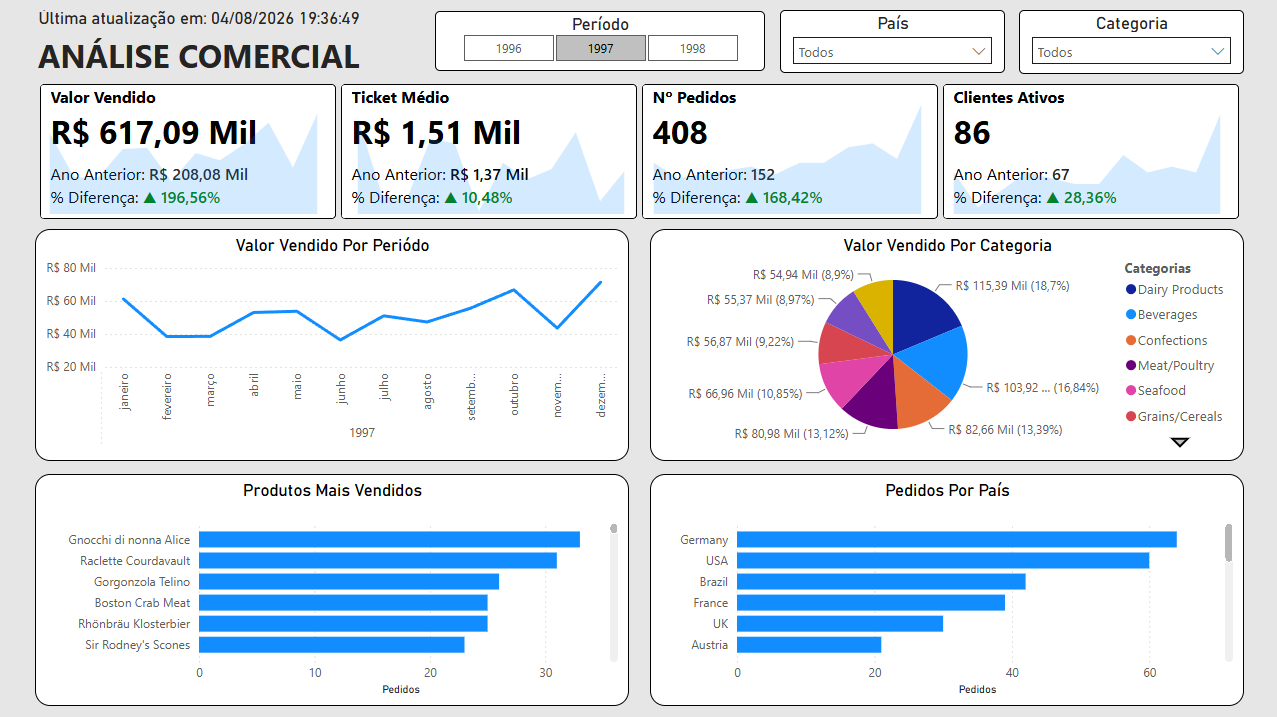

The page's visual inventory and layout, read from the dashboard file:
{"tool":"powerbi","page":{"name":"Página 1","canvas":[1280,720],"ordinal":0},"visuals":[{"type":"slicer","title":"Período","fields":{"Values":["Calendario.Ano"]},"box":[436.5,12,329.9,60.2],"z":0,"group":"g1"},{"type":"cardVisual","fields":{"Data":["Medidas.Total de Vendas","Medidas.Ticket Medio","Medidas.N Pedidos","Medidas.Clientes Ativos"]},"box":[35.6,79.7,1208.9,144.7],"z":0,"group":"g4"},{"type":"lineChart","title":"Valor Vendido Por Periódo","fields":{"Category":["Calendario.Data Hierarquia.Ano","Calendario.Data Hierarquia.Nome do Mês","Calendario.Data Hierarquia.Dia"],"Y":["Medidas.Total de Vendas"]},"box":[35.6,230.2,594.4,232.4],"z":0,"group":"g3"},{"type":"clusteredBarChart","title":"Produtos Mais Vendidos","fields":{"Category":["dim_products.product_name"],"Y":["Medidas.N Pedidos"]},"box":[35.6,474.7,594.4,232.4],"z":0,"group":"g2"},{"type":"group","id":"g1","title":"Grupo 1","box":[436.5,11,809.2,63.8],"z":1000},{"type":"slicer","title":"País","fields":{"Values":["dim_customers.country"]},"box":[781.5,11,225.1,63.3],"z":1000,"group":"g1"},{"type":"pieChart","title":"Valor Vendido Por Categoria","fields":{"Category":["fct_order_items.category_name"],"Y":["Medidas.Total de Vendas"]},"box":[650.7,230.2,594.4,232.4],"z":1000,"group":"g3"},{"type":"clusteredBarChart","title":"Pedidos Por País","fields":{"Category":["dim_customers.country"],"Y":["Medidas.N Pedidos"]},"box":[650.7,474.7,594.4,232.4],"z":1000,"group":"g2"},{"type":"slicer","title":"Categoria","fields":{"Values":["dim_products.category_name"]},"box":[1020.1,11,225.1,64.3],"z":2000,"group":"g1"},{"type":"group","id":"g2","title":"Grupo 2","box":[35.6,474.7,1208.9,233],"z":2000},{"type":"group","id":"g3","title":"Grupo 3","box":[35.6,230.2,1208.9,233],"z":3000},{"type":"areaChart","fields":{"Category":["Calendario.Data Hierarquia.Ano","Calendario.Data Hierarquia.Nome do Mês","Calendario.Data Hierarquia.Dia"],"Y":["Medidas.Clientes Ativos"]},"box":[939.2,83.4,296.7,136.1],"z":3001,"group":"g4"},{"type":"areaChart","fields":{"Category":["Calendario.Data Hierarquia.Ano","Calendario.Data Hierarquia.Nome do Mês","Calendario.Data Hierarquia.Dia"],"Y":["Medidas.N Pedidos"]},"box":[640,83.4,296.7,136.1],"z":3002,"group":"g4"},{"type":"areaChart","fields":{"Category":["Calendario.Data Hierarquia.Ano","Calendario.Data Hierarquia.Nome do Mês","Calendario.Data Hierarquia.Dia"],"Y":["Medidas.Ticket Medio"]},"box":[343.3,83.4,296.7,136.1],"z":3003,"group":"g4"},{"type":"areaChart","fields":{"Category":["Calendario.Data Hierarquia.Ano","Calendario.Data Hierarquia.Nome do Mês","Calendario.Data Hierarquia.Dia"],"Y":["Medidas.Total de Vendas"]},"box":[35.6,83.4,296.7,136.1],"z":3004,"group":"g4"},{"type":"group","id":"g4","title":"Grupo 4","box":[35.6,79.7,1208.9,144.7],"z":3005},{"type":"textbox","title":"ANÁLISE COMERCIAL","box":[14.4,33.7,371.2,45],"z":3006,"group":"g5"},{"type":"card","fields":{"Values":["Medidas.Registro de Atualizacao"]},"box":[10,6.2,380,27.5],"z":3007,"group":"g5"},{"type":"group","id":"g5","title":"Grupo 5","box":[10,6.2,380,72.5],"z":3008}]}

Visuals, with their boxes in screenshot pixels (x1, y1, x2, y2), scaled from the page's 1280x720 canvas onto the 1277x717 screenshot:
"Período" slicer: bbox=[435, 12, 765, 72]
cardVisual - Medidas.Total de Vendas x Medidas.Ticket Medio: bbox=[36, 79, 1242, 223]
"Valor Vendido Por Periódo" lineChart: bbox=[36, 229, 629, 461]
"Produtos Mais Vendidos" clusteredBarChart: bbox=[36, 473, 629, 704]
"Grupo 1" group: bbox=[435, 11, 1243, 74]
"País" slicer: bbox=[780, 11, 1004, 74]
"Valor Vendido Por Categoria" pieChart: bbox=[649, 229, 1242, 461]
"Pedidos Por País" clusteredBarChart: bbox=[649, 473, 1242, 704]
"Categoria" slicer: bbox=[1018, 11, 1242, 75]
"Grupo 2" group: bbox=[36, 473, 1242, 705]
"Grupo 3" group: bbox=[36, 229, 1242, 461]
areaChart - Calendario.Data Hierarquia.Ano x Calendario.Data Hierarquia.Nome do Mês: bbox=[937, 83, 1233, 219]
areaChart - Calendario.Data Hierarquia.Ano x Calendario.Data Hierarquia.Nome do Mês: bbox=[638, 83, 935, 219]
areaChart - Calendario.Data Hierarquia.Ano x Calendario.Data Hierarquia.Nome do Mês: bbox=[342, 83, 638, 219]
areaChart - Calendario.Data Hierarquia.Ano x Calendario.Data Hierarquia.Nome do Mês: bbox=[36, 83, 332, 219]
"Grupo 4" group: bbox=[36, 79, 1242, 223]
"ANÁLISE COMERCIAL" textbox: bbox=[14, 34, 385, 78]
card - Medidas.Registro de Atualizacao: bbox=[10, 6, 389, 34]
"Grupo 5" group: bbox=[10, 6, 389, 78]
